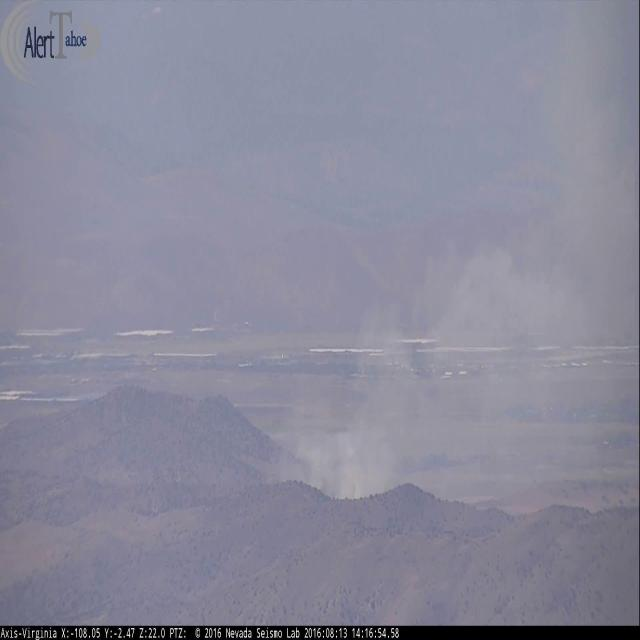smoke: (269, 0, 640, 496)
